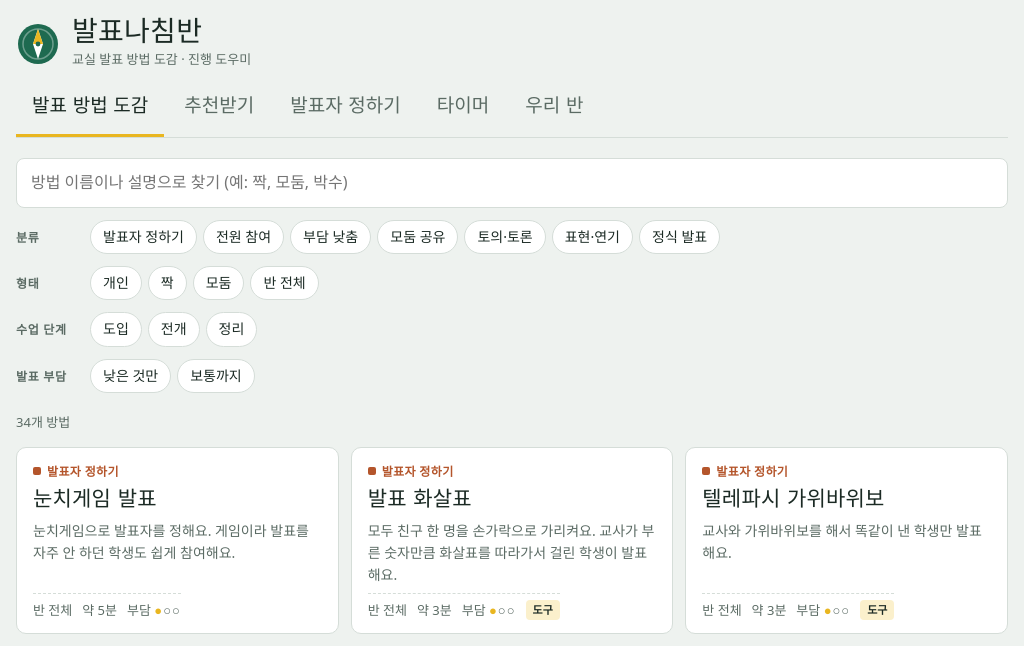
도감 › 34개 방법을 보여 주고 필터·검색으로 좁힌다
Expected: the text "34개 방법" is shown, x1=16 y1=412 x2=70 y2=432
Click the button "짝". click: [167, 283]
box: x1=148 y1=266 x2=187 y2=300
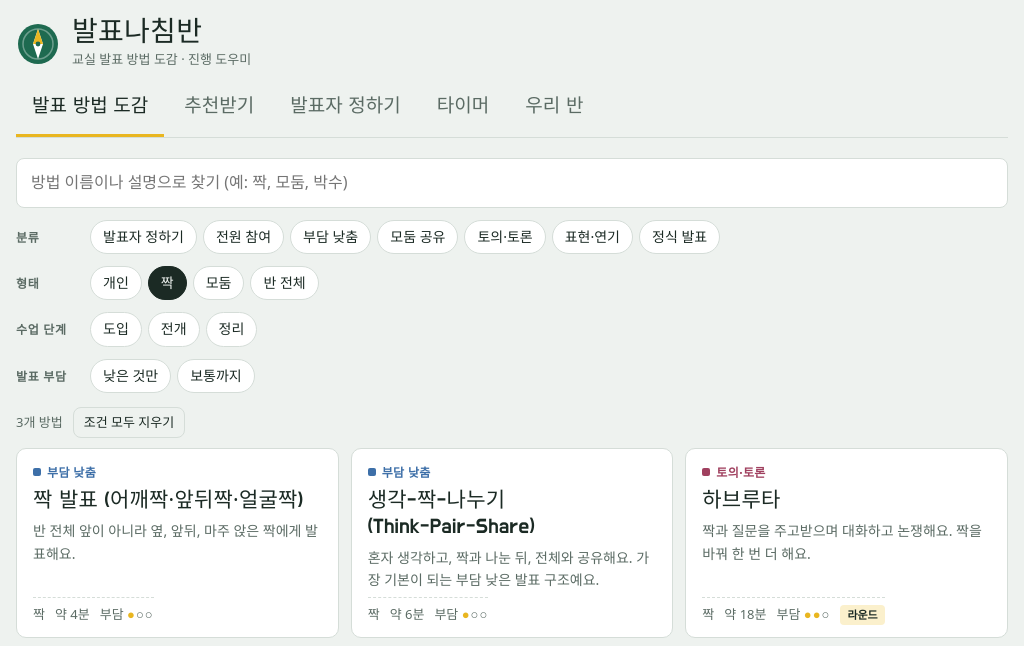
Click the button "조건 모두 지우기". click: [129, 422]
box: x1=73 y1=407 x2=185 y2=438
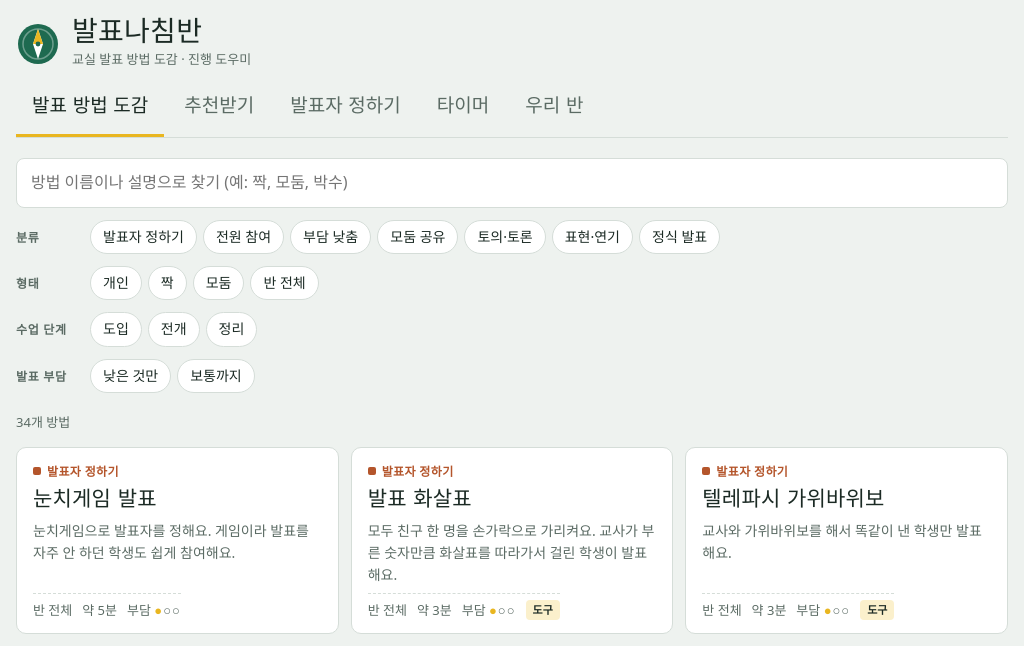
Type "없는방법이름" into the search field named "방법 찾기". click: [512, 183]
box: x1=16 y1=158 x2=1008 y2=208
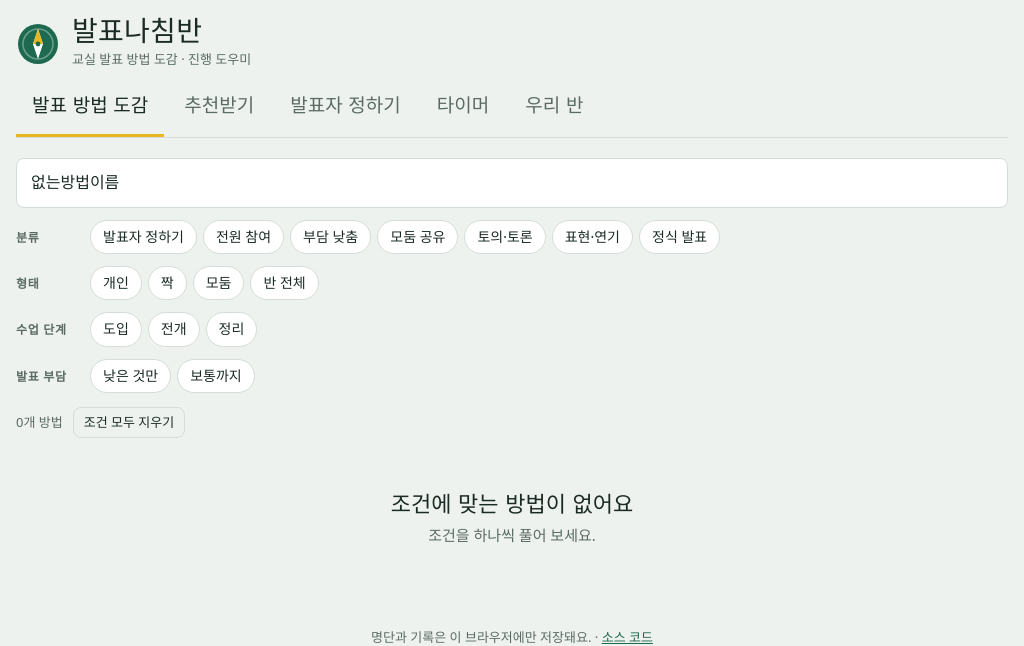
Expected: the text "조건에 맞는 방법이 없어요" is shown, x1=391 y1=494 x2=633 y2=516
